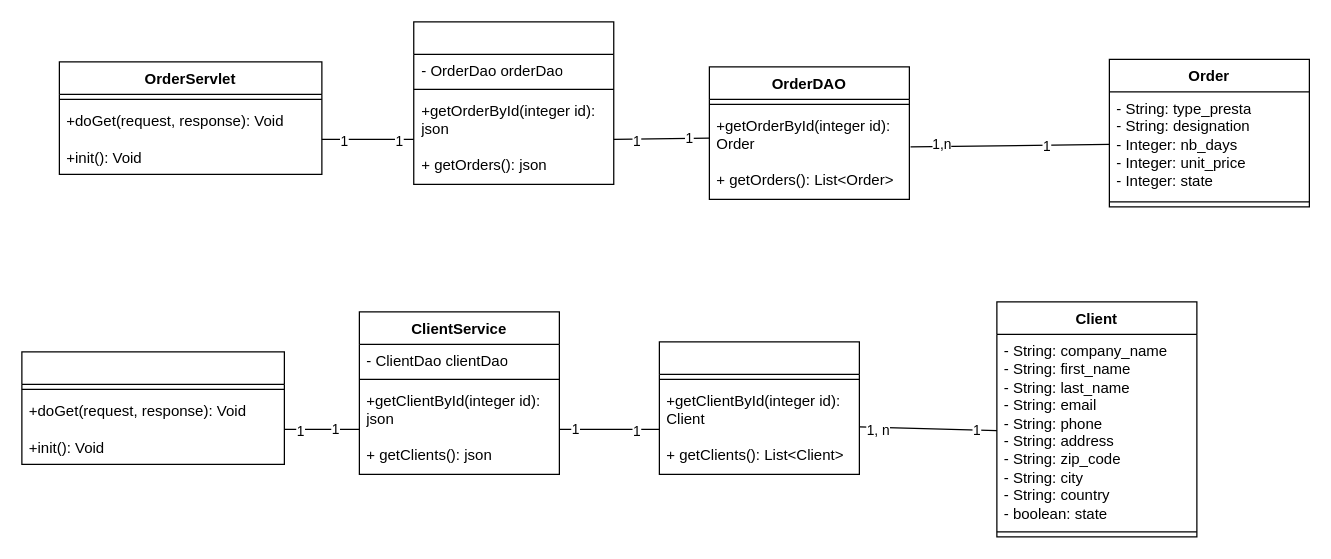
Image size: 1331x559. Some labels were removed from this diagram. Each missing label, with the box of its shape:
ClientDAO: (658, 341, 859, 474)
ClientServlet: (21, 351, 284, 464)
OrderService: (412, 21, 614, 184)
